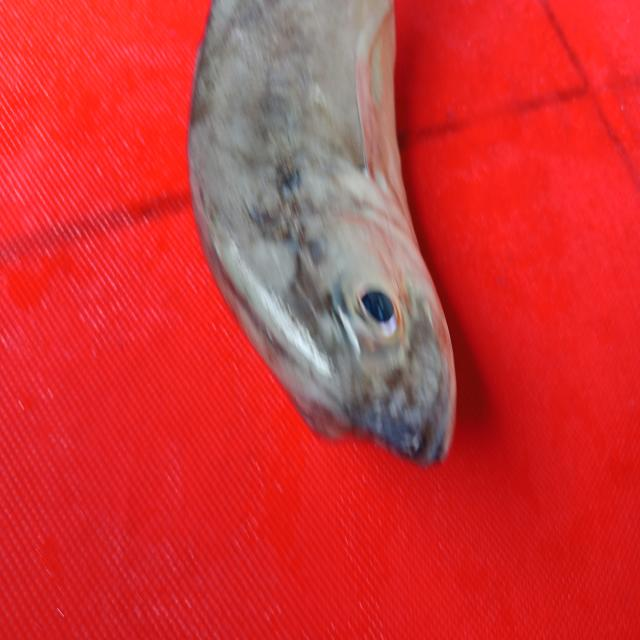ikan: (171, 5, 494, 481)
